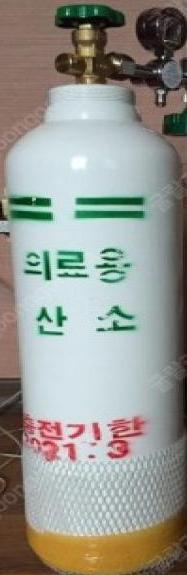cylinder: (1, 1, 187, 575)
